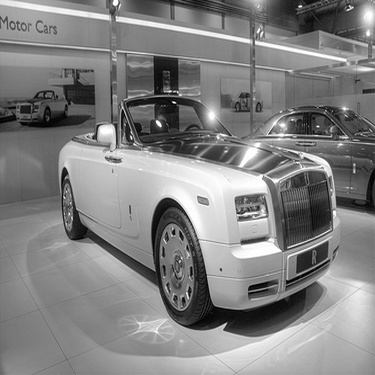car: (43, 86, 348, 334), (236, 96, 372, 215), (8, 84, 73, 128), (229, 84, 263, 118)
